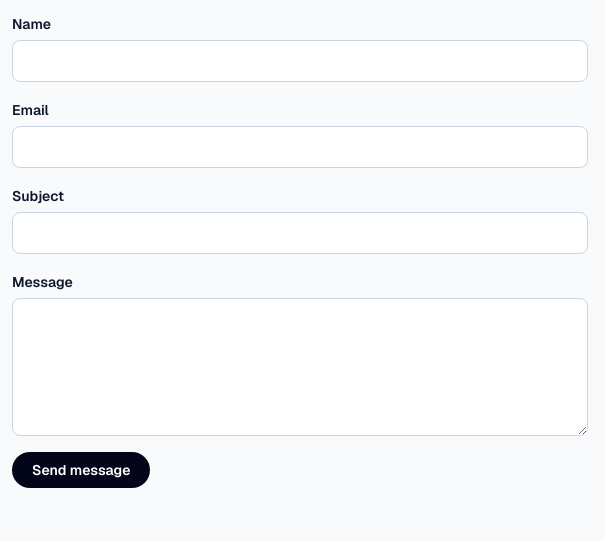
explains rate limiting
The width and height of the screenshot is (605, 541).
Type "Grace" into the field labelled "Name" at (300, 61), box [12, 40, 588, 82]
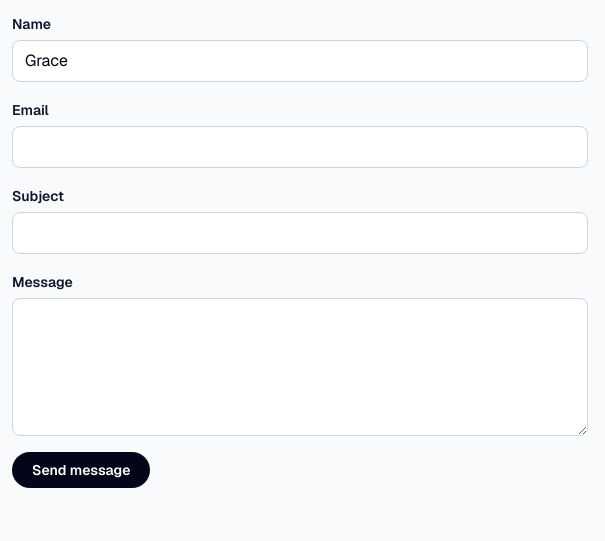
Type "bad" into the field labelled "Email" at (300, 147), box [12, 126, 588, 168]
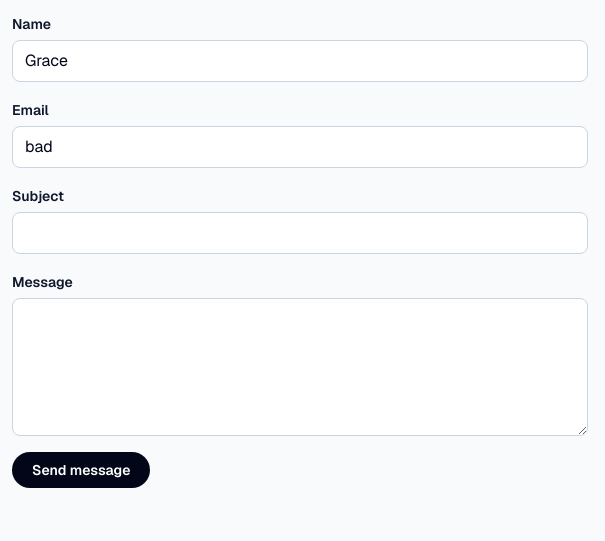
Type "Hi" into the field labelled "Subject" at (300, 233), box [12, 212, 588, 254]
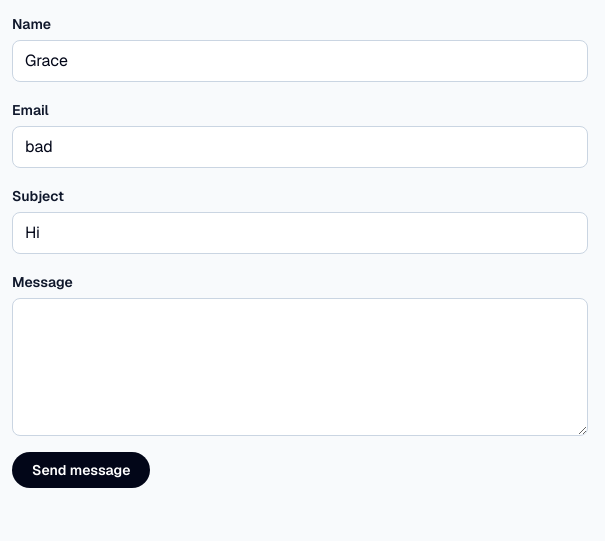
Type "Hello" into the text box labelled "Message" at (300, 367), box [12, 298, 588, 436]
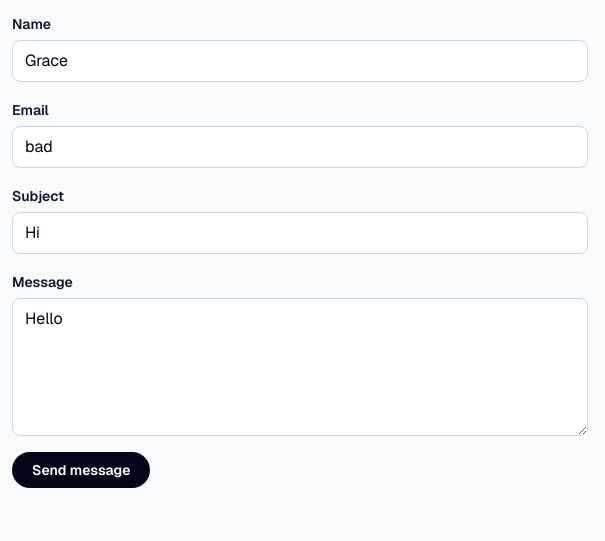
Submit the form "Name Email Subject Message Send message"
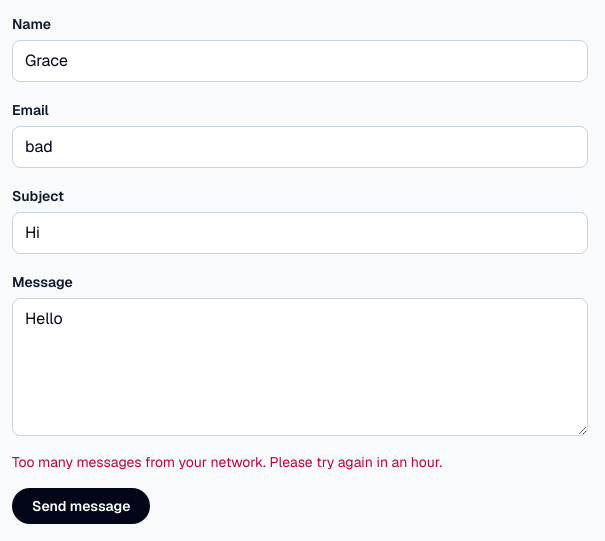
Check: the message shows "Too many messages", box [12, 453, 442, 471]
